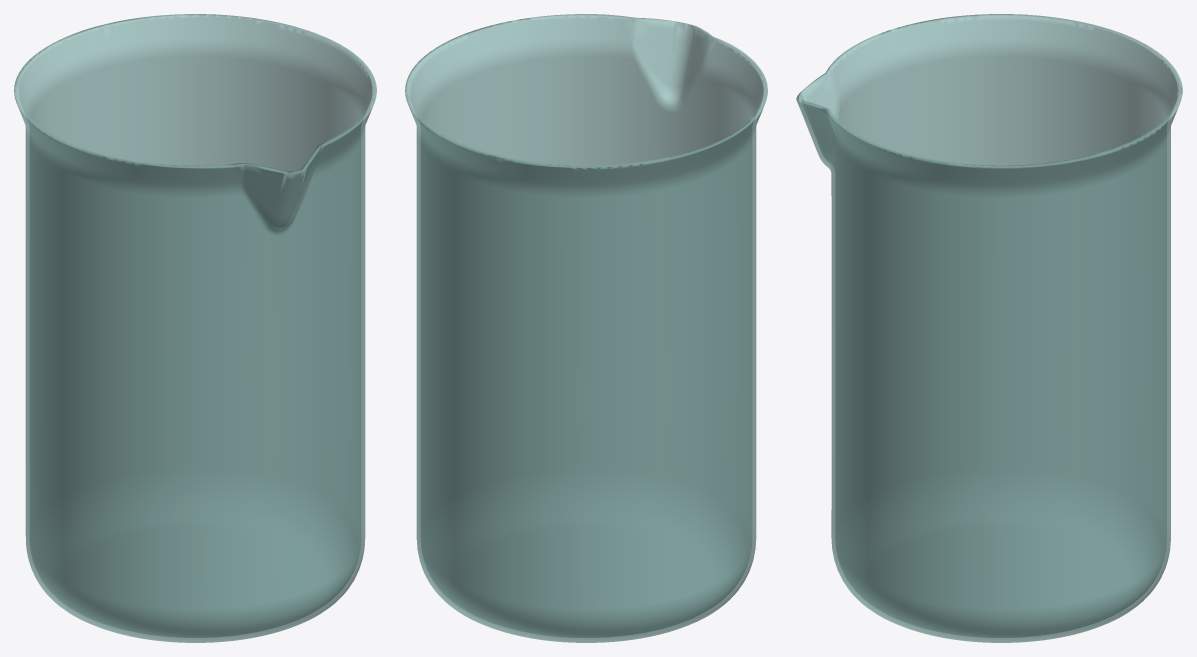
File: 100ml_beaker.fbx
3 views of the same model, side by side, from view 1: azimuth 30°, elevation 25°; view 2: azimuth 150°, elevation 25°; view 3: azimuth 270°, elevation 25° (orthographic).
Parts seen in each view (by area): view 1: transform1; view 2: transform1; view 3: transform1.
Part boxes in pixels (x1,y1,x2,y2): transform1: (14, 14, 376, 642); transform1: (405, 14, 767, 642); transform1: (796, 14, 1182, 642).
Bounding box in the file's own units: 1.94 × 2.92 × 2.07.
